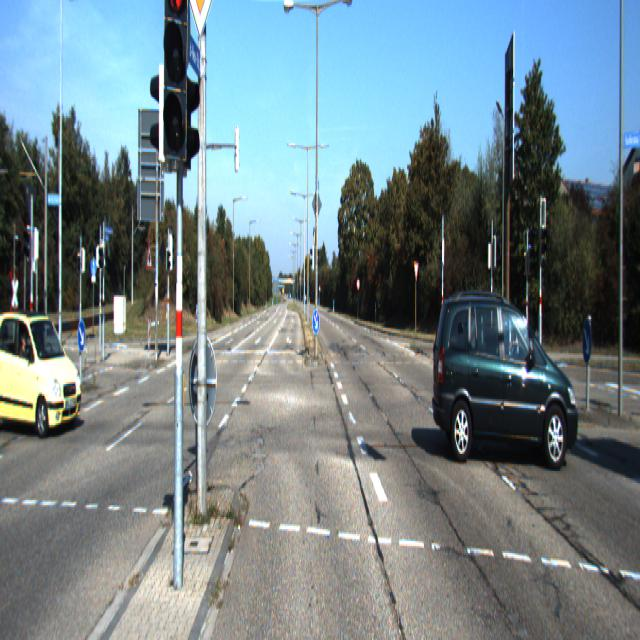Car: (428, 279, 581, 470), (0, 304, 84, 433)
